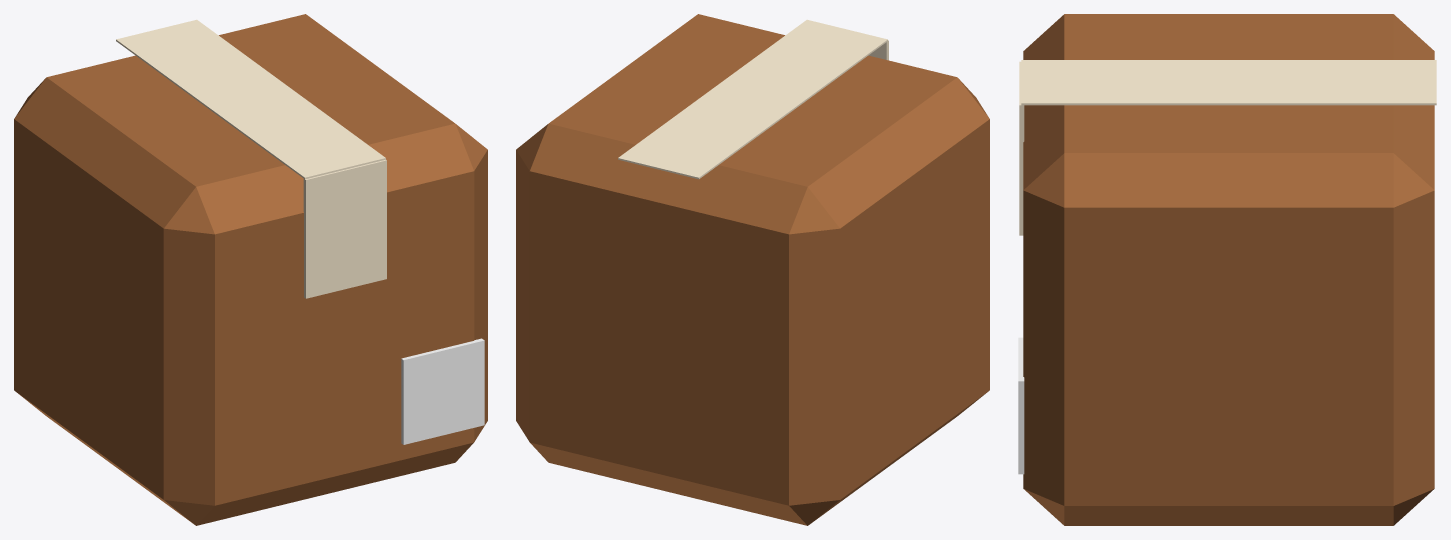
The model's file is parcel.glb.
3 views of the same model, side by side, from view 1: azimuth 30°, elevation 25°; view 2: azimuth 150°, elevation 25°; view 3: azimuth 270°, elevation 25° (orthographic). The views are drawn at different scales.
Visible parts, largest first — view 1: parcel; view 2: parcel; view 3: parcel.
Boxes of the visible parts, <box> form: parcel: <box>14,14,487,525</box>; parcel: <box>516,14,989,525</box>; parcel: <box>1018,14,1436,525</box>.
Bounding box in the file's own units: 0.4 × 0.402 × 0.407.
